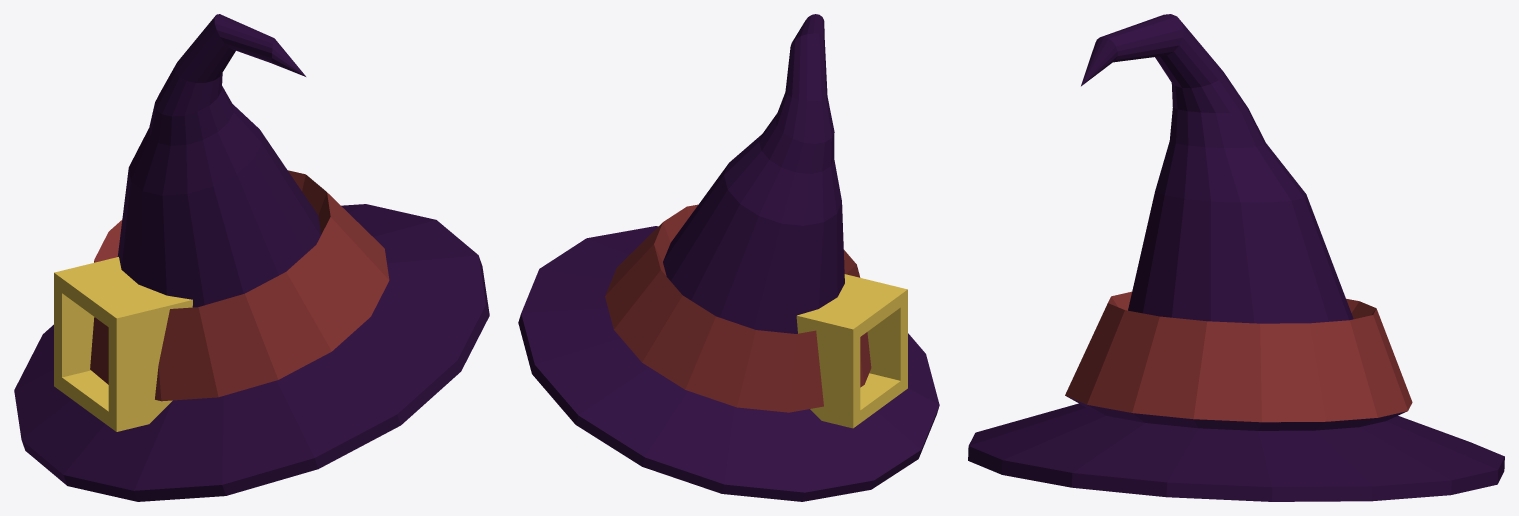
The model's file is WitchHat.glb.
The picture shows the model from 3 angles, left to right: view 1: azimuth 30°, elevation 25°; view 2: azimuth 150°, elevation 25°; view 3: azimuth 270°, elevation 25°; orthographic projection. The views are drawn at different scales.
Visible parts, largest first — view 1: WitchHat; view 2: WitchHat; view 3: WitchHat.
Part boxes in pixels (x1,y1,x2,y2): WitchHat: [14, 14, 489, 501]; WitchHat: [518, 14, 939, 501]; WitchHat: [968, 14, 1504, 501].
Bounding box in the file's own units: 0.5531 × 0.5772 × 0.5744.
